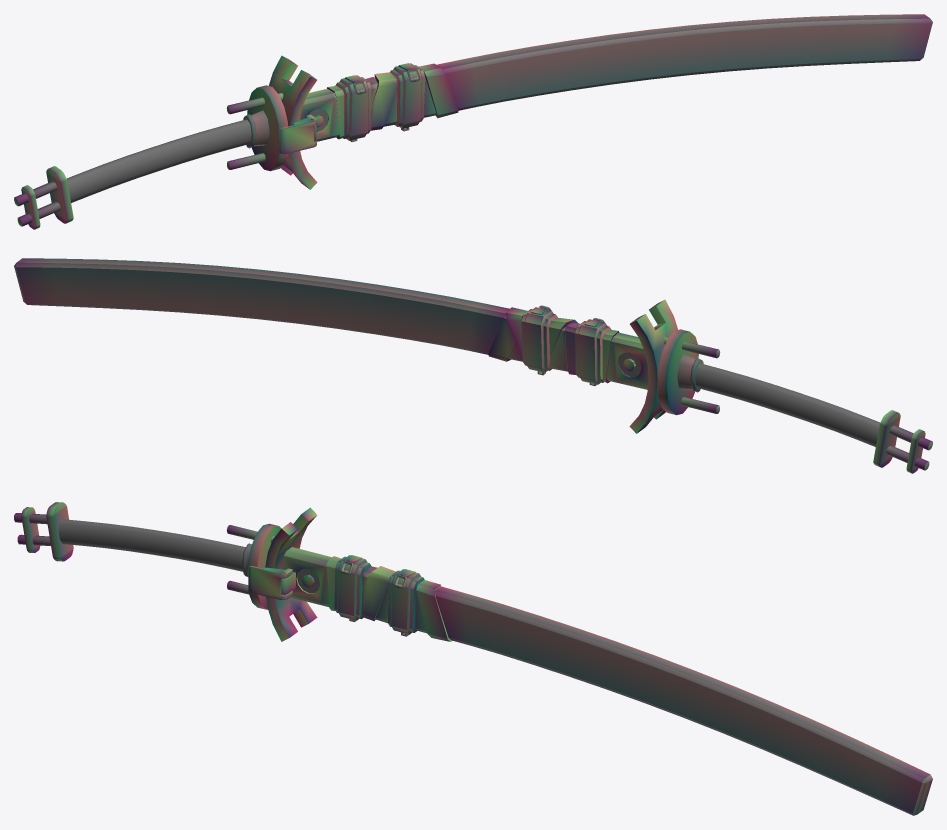
The model's file is Eff_Unagi_Weapon03.fbx.
3 renders of one model, top to bottom at view 1: azimuth 30°, elevation 25°; view 2: azimuth 150°, elevation 25°; view 3: azimuth 330°, elevation 25°, orthographic.
Visible parts, largest first — view 1: Unagi_WeaponGlow2, Unagi_WeaponGlow; view 2: Unagi_WeaponGlow2, Unagi_WeaponGlow; view 3: Unagi_WeaponGlow2, Unagi_WeaponGlow.
Boxes of the visible parts, box(x1,y1,x2,y2) form: Unagi_WeaponGlow2: box(269, 14, 932, 189); Unagi_WeaponGlow: box(14, 85, 288, 229); Unagi_WeaponGlow2: box(14, 258, 677, 433); Unagi_WeaponGlow: box(657, 329, 932, 473); Unagi_WeaponGlow2: box(248, 507, 932, 815); Unagi_WeaponGlow: box(14, 502, 281, 609).
Size of the model in its own units: 1.16 by 0.1752 by 0.074.
